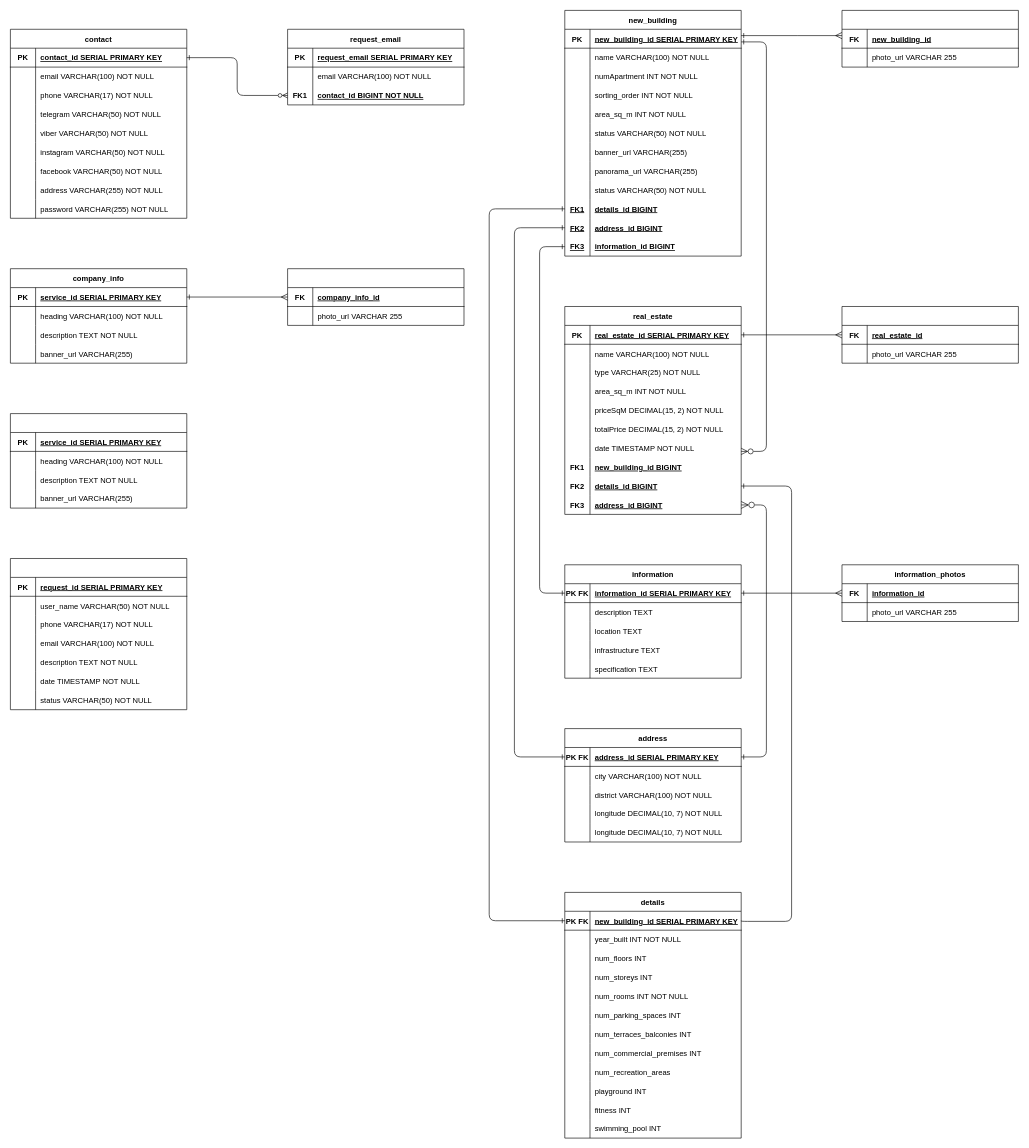
This 1029x1148 diagram has some shape labels left out. Each missing label, with the box of its shape:
company_info_photos: (287, 268, 464, 325)
new_building_photos: (841, 10, 1018, 67)
real_estate_photos: (841, 306, 1018, 363)
requests: (10, 558, 187, 710)
services: (10, 413, 187, 508)
